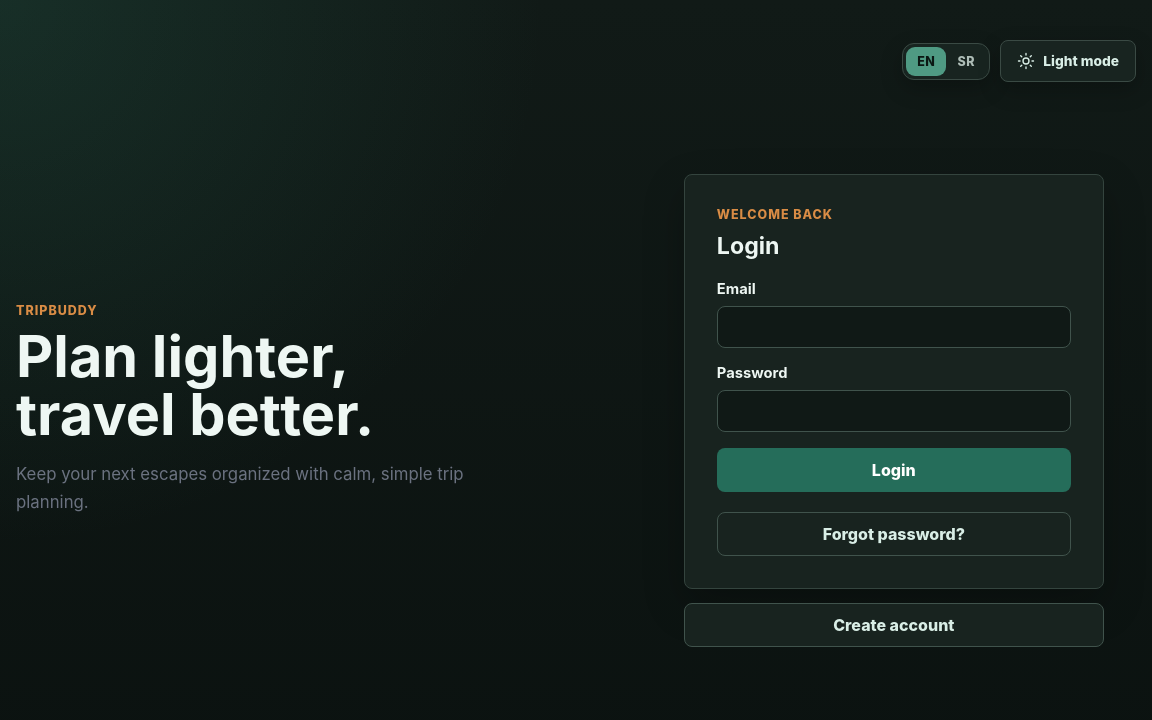
Test case: TripBuddy frontend › persists an explicit theme selection
Click the button with aria-label "Switch to light mode".
click(1068, 61)  # box [1000, 40, 1136, 82]
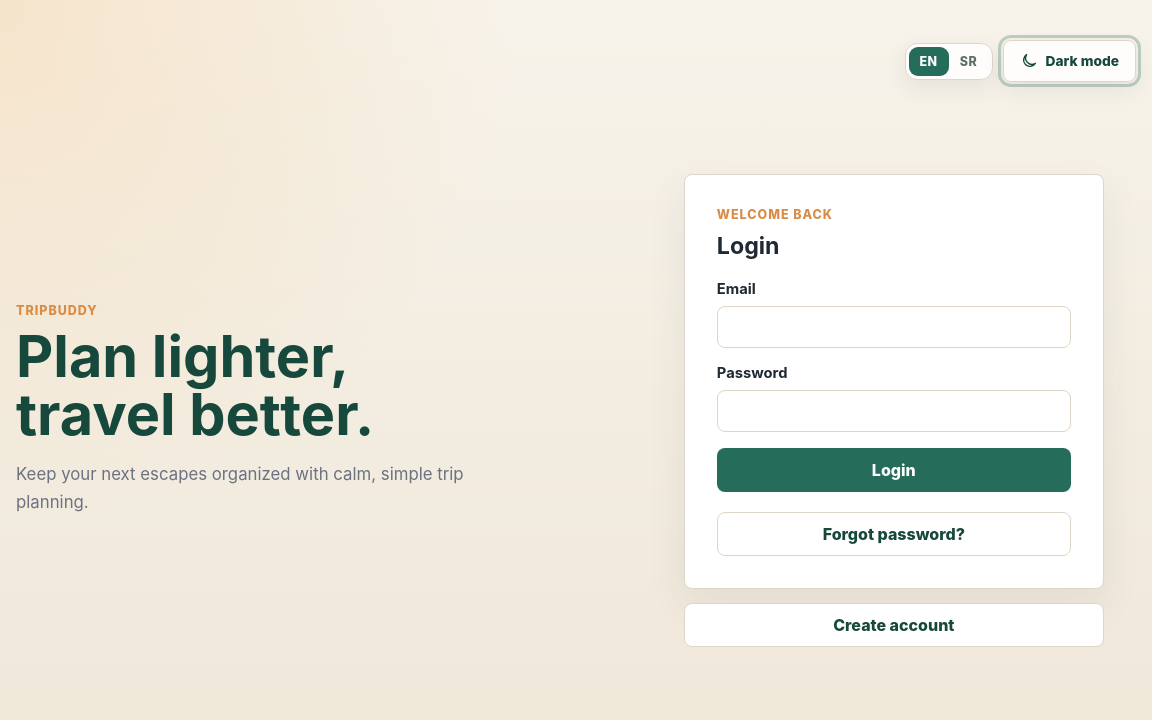
Expected: the button with aria-label "Switch to dark mode" is shown, [1002, 40, 1136, 82]
